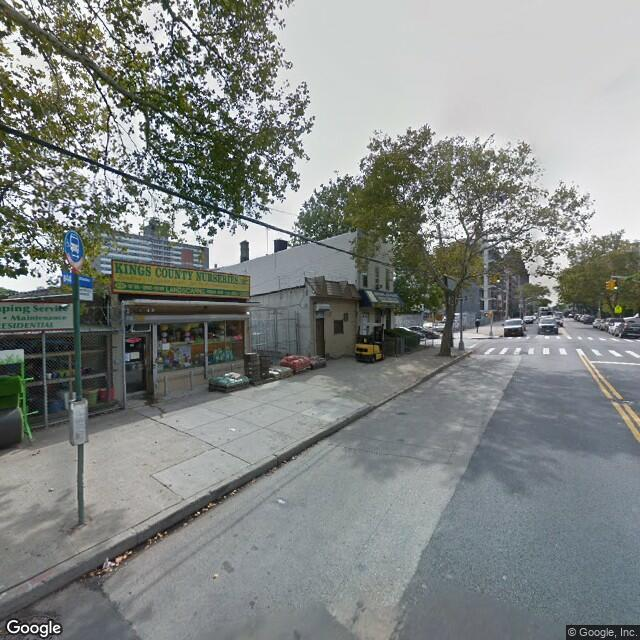litter: (99, 556, 119, 572), (273, 497, 289, 506), (226, 425, 238, 435)
